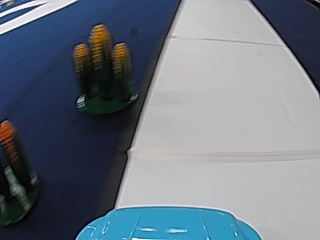corn: (71, 21, 136, 119), (2, 123, 39, 224)
